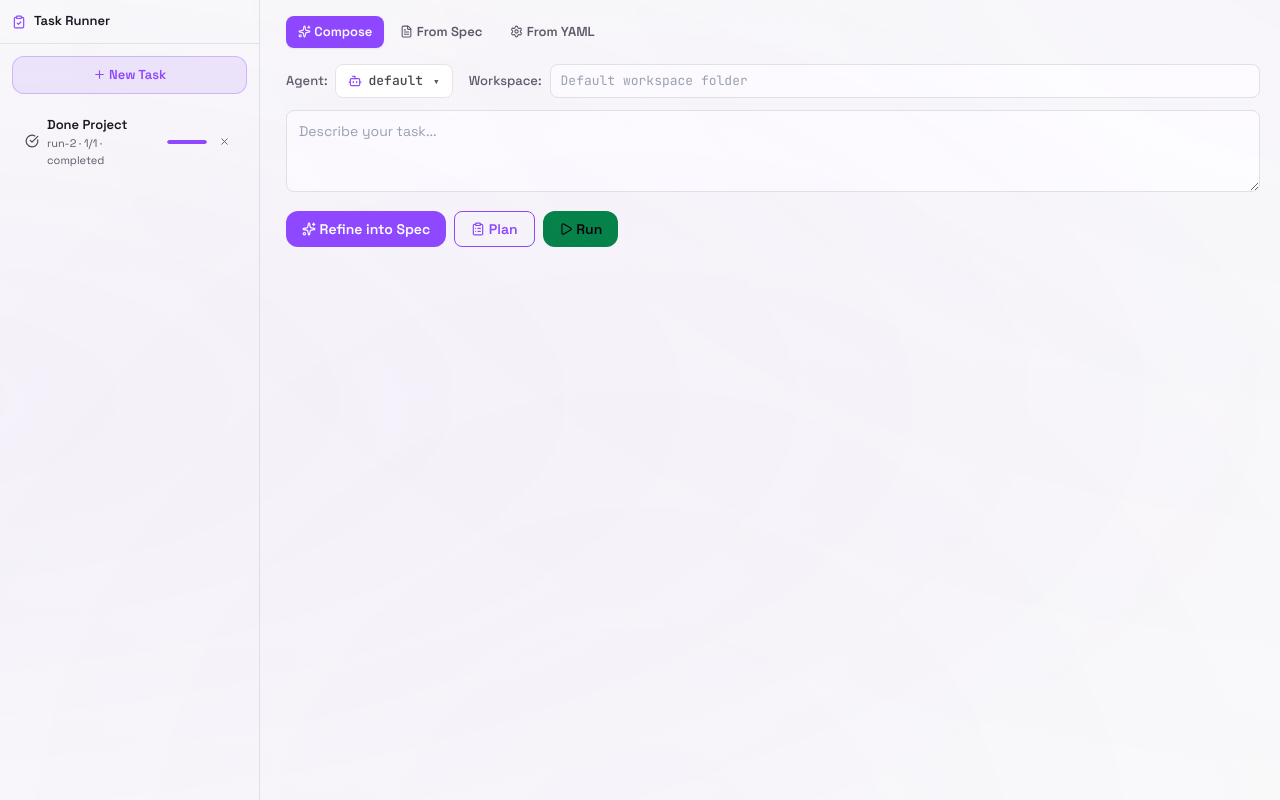
Test: ProjectsPage › shows restart button for completed projects
Click the text "Done Project": x=87, y=125 x1=47 y1=116 x2=128 y2=133
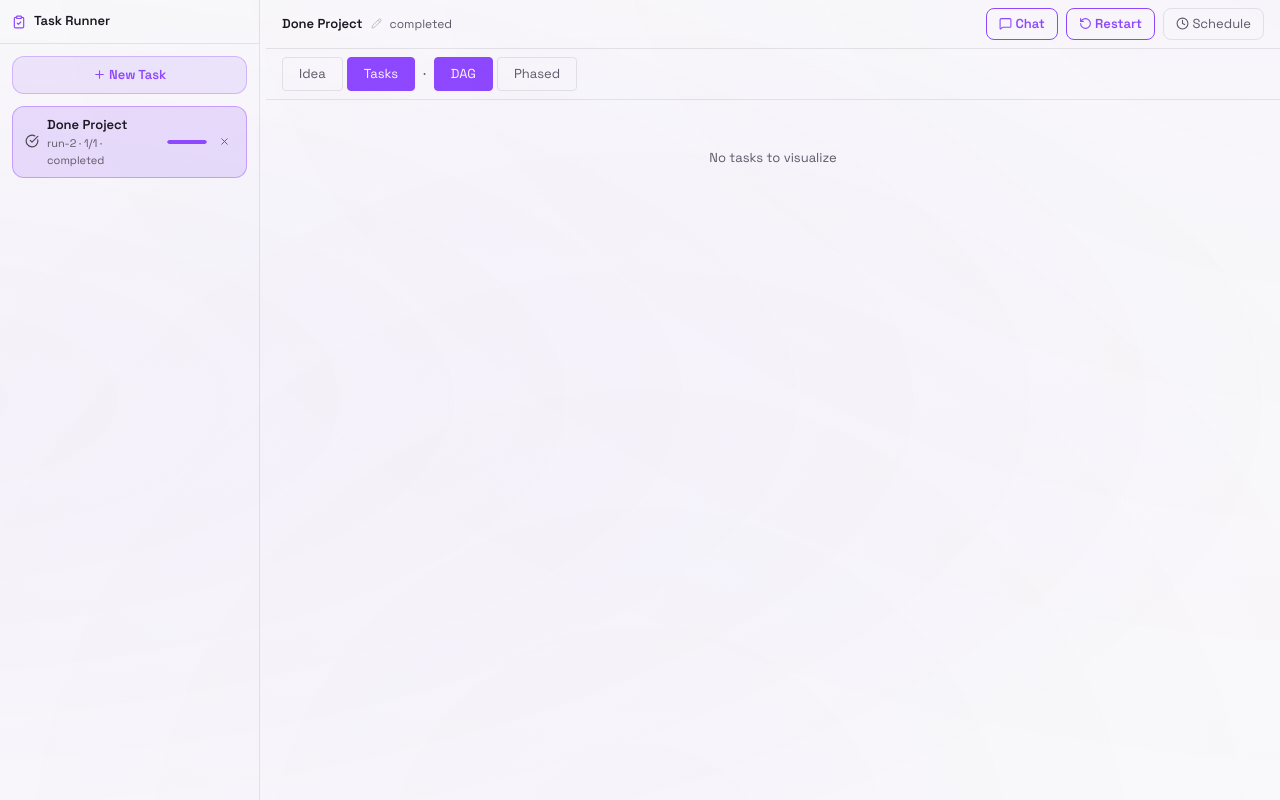
Now the button "Restart" is shown, box x1=1066 y1=8 x2=1155 y2=40
Now the button "Schedule" is shown, box x1=1163 y1=8 x2=1264 y2=40
